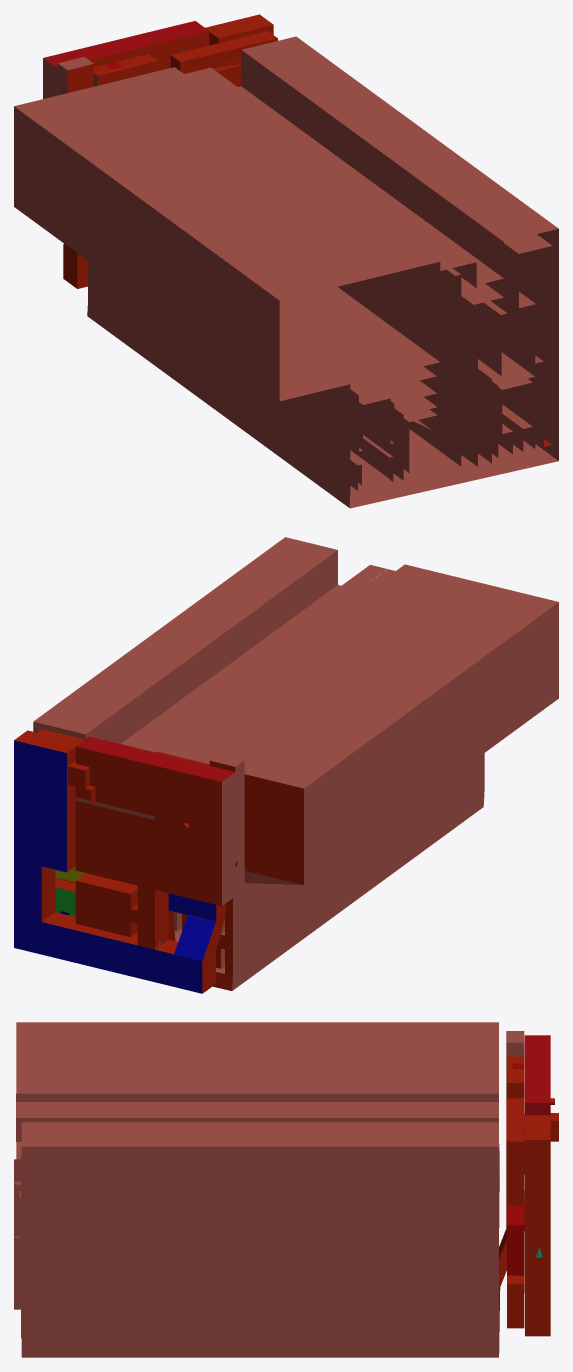
File: AcuMap.obj
3 views of the same model, one above another, from view 1: azimuth 30°, elevation 25°; view 2: azimuth 150°, elevation 25°; view 3: azimuth 270°, elevation 25° (orthographic). The views are drawn at different scales.
Parts seen in each view (by area): view 1: Plane; view 2: Plane; view 3: Plane.
Part boxes in pixels (bbox=[...]): Plane: bbox=[14, 14, 558, 508]; Plane: bbox=[14, 537, 558, 993]; Plane: bbox=[14, 1022, 558, 1357].
Bounding box in the file's own units: 21.16 × 17.93 × 38.96.
